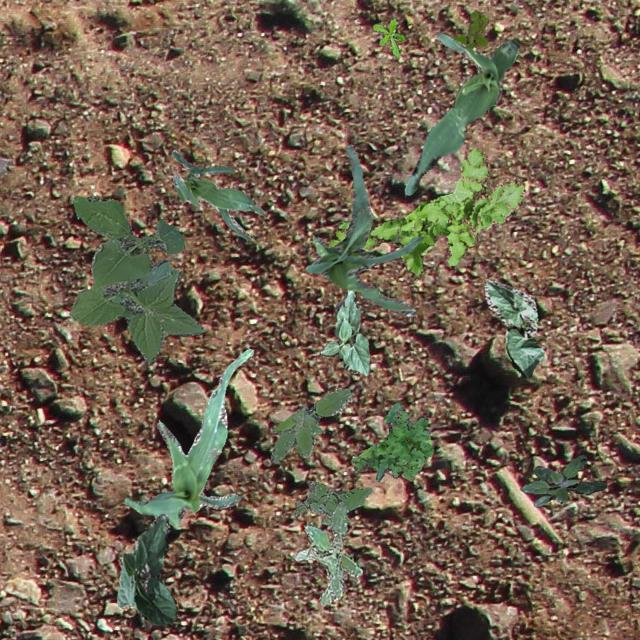crop: (124, 348, 252, 526), (306, 144, 422, 316), (404, 32, 520, 194), (170, 148, 264, 240), (116, 512, 176, 626), (483, 280, 542, 378), (320, 288, 368, 374)
weed: (326, 146, 524, 276), (68, 195, 202, 362), (293, 500, 362, 604), (350, 402, 432, 481), (270, 388, 352, 462), (518, 454, 606, 506), (292, 479, 370, 524), (451, 10, 486, 48), (372, 18, 404, 56)
